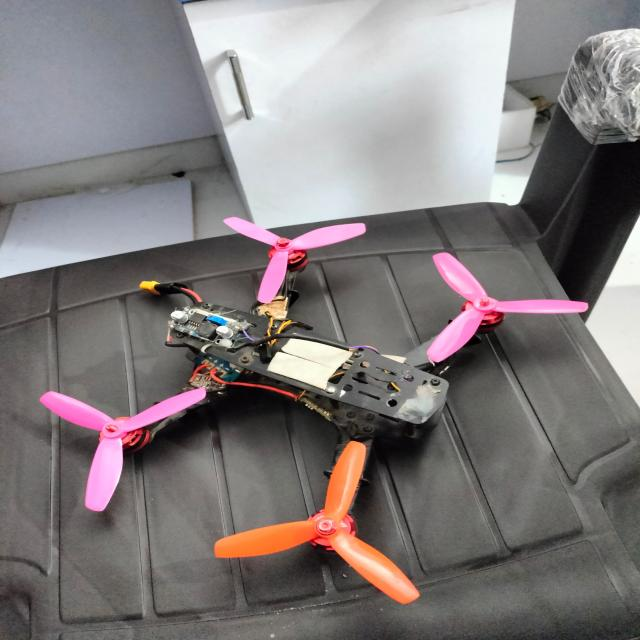drone: (40, 202, 556, 599)
